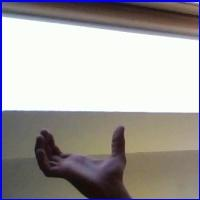space: (25, 113, 136, 194)
